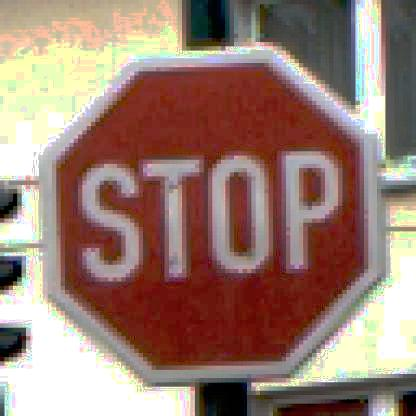Stop Sign: (41, 43, 390, 386)
